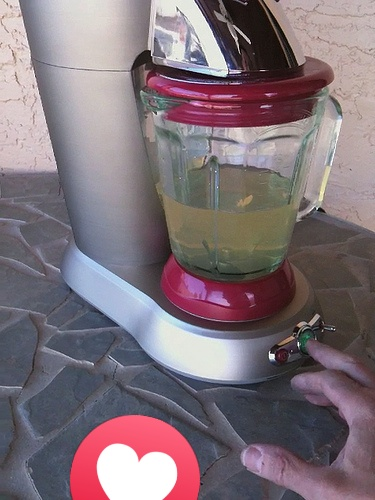love: (70, 415, 200, 500)
